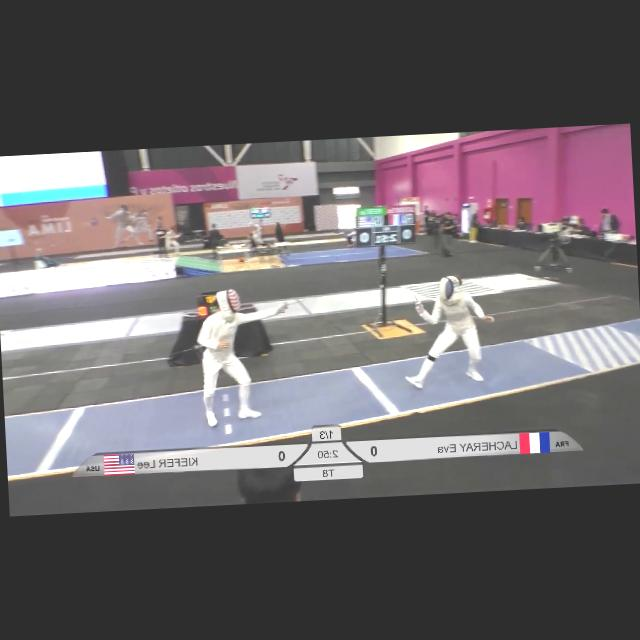blade: (384, 247, 422, 310), (276, 282, 346, 315)
